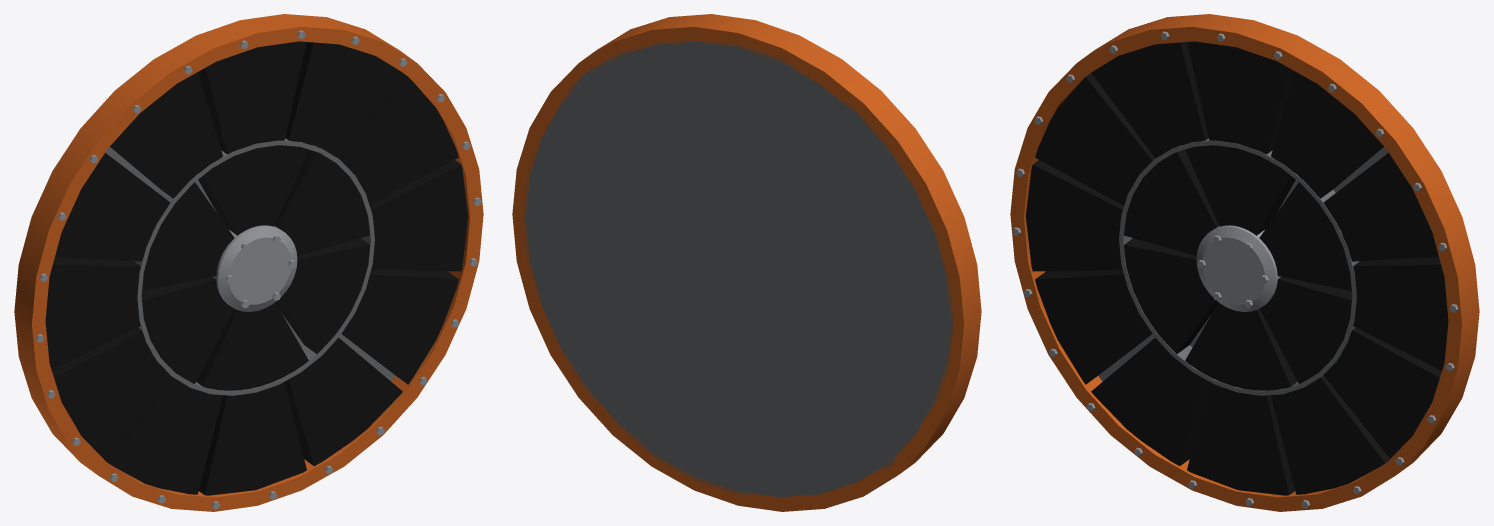
The model's file is engine_hot_emitter_annulus.obj.
3 renders of one model, left to right at view 1: azimuth 30°, elevation 25°; view 2: azimuth 150°, elevation 25°; view 3: azimuth 330°, elevation 25°, orthographic.
Parts seen in each view (by area): view 1: engine_hot_emitter_annulus; view 2: engine_hot_emitter_annulus; view 3: engine_hot_emitter_annulus.
Part boxes in pixels (x1,y1,x2,y2): engine_hot_emitter_annulus: [14, 14, 483, 511]; engine_hot_emitter_annulus: [512, 14, 981, 511]; engine_hot_emitter_annulus: [1010, 14, 1479, 511].
Bounding box in the file's own units: 4.32 × 4.32 × 0.36.
